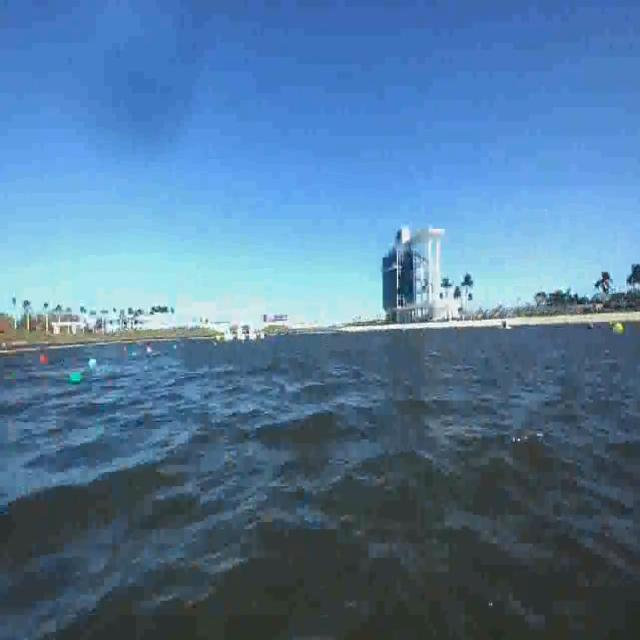green-buoy: (71, 374, 82, 386)
yellow-buoy: (616, 319, 626, 336)
